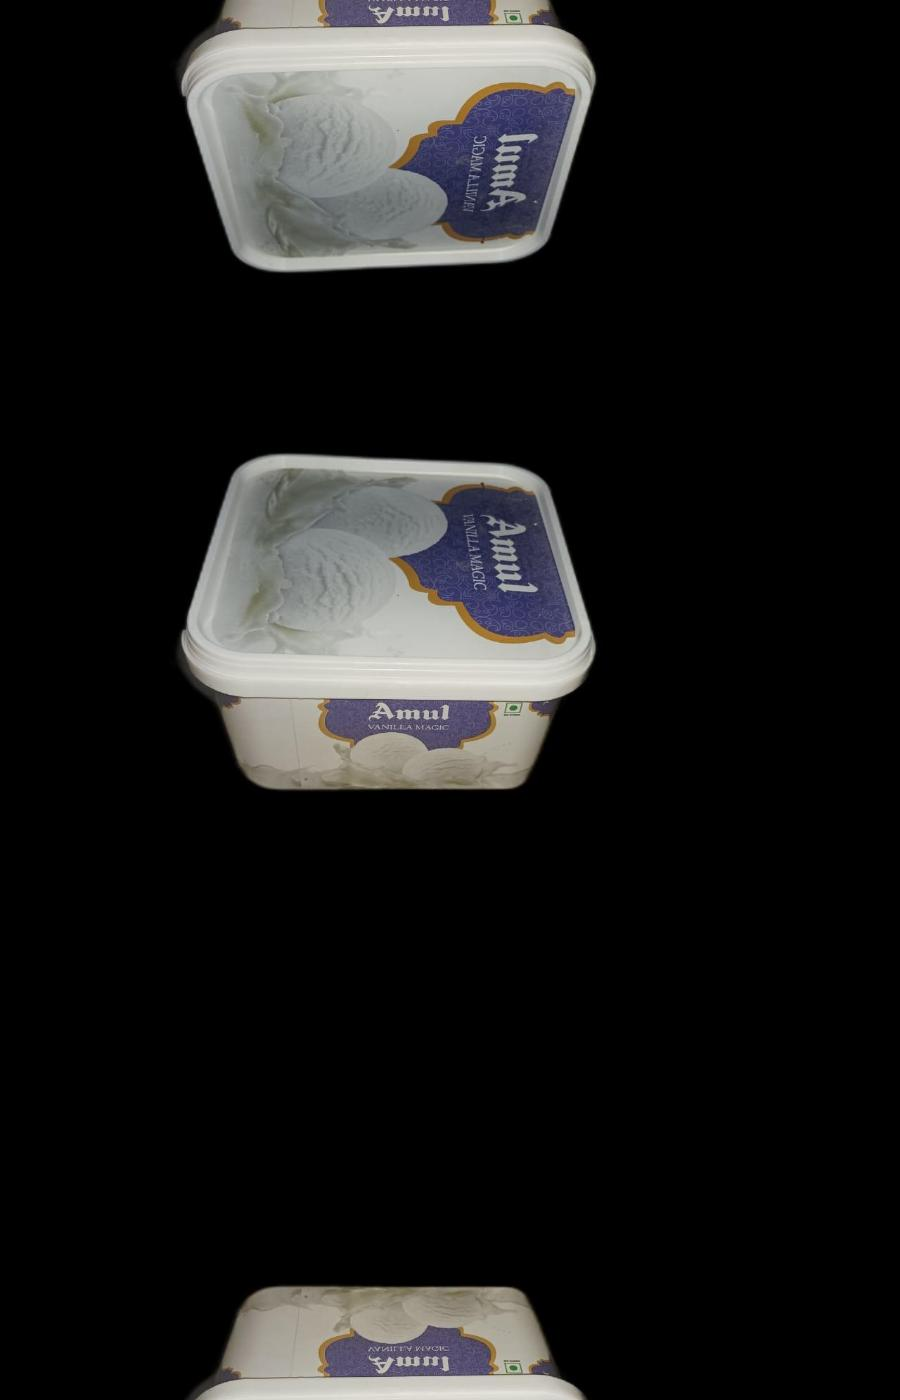Amul Ice Cream - Vanilla Magic 1 L Tub: (181, 450, 599, 802), (181, 0, 599, 274), (181, 1272, 599, 1400)
